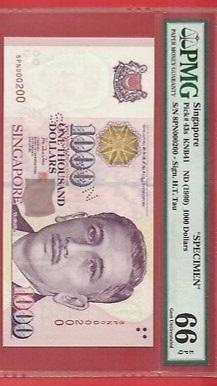1000SingaporeDollar: (5, 37, 153, 345)
